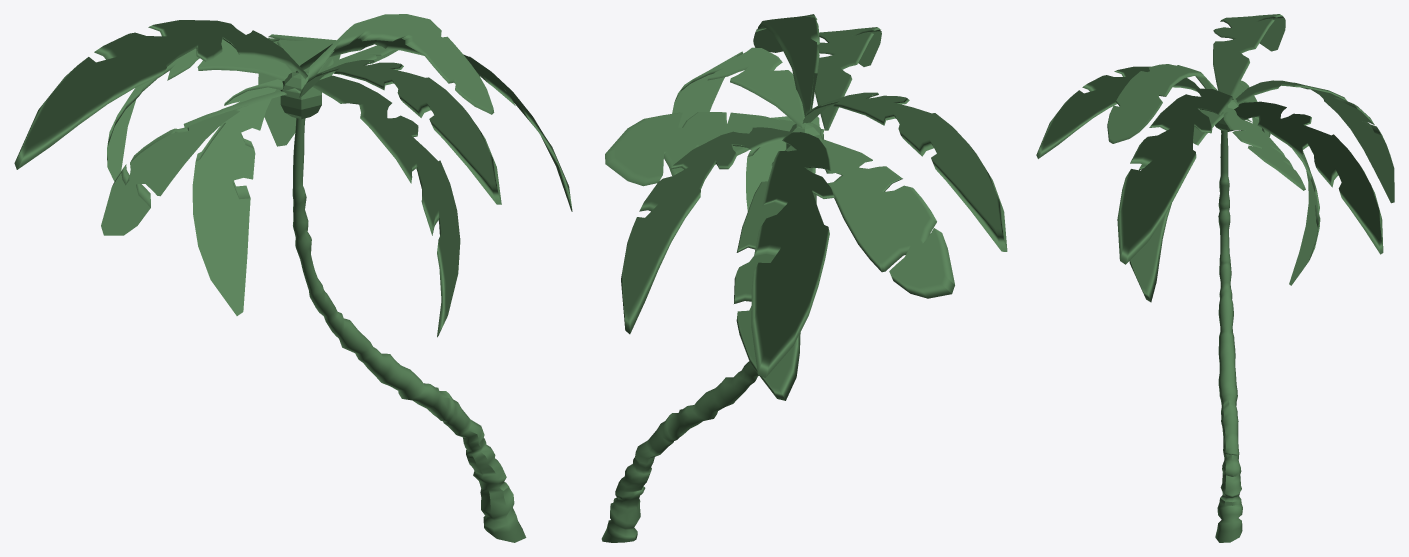
File: fol_palmtree_01.fbx
3 views of the same model, side by side, from view 1: azimuth 30°, elevation 25°; view 2: azimuth 150°, elevation 25°; view 3: azimuth 270°, elevation 25° (orthographic). The views are drawn at different scales.
Parts seen in each view (by area): view 1: Palm_tree_slim_bottom_keep; view 2: Palm_tree_slim_bottom_keep; view 3: Palm_tree_slim_bottom_keep.
Part boxes in pixels (<box>): Palm_tree_slim_bottom_keep: <box>14,14,572,542</box>; Palm_tree_slim_bottom_keep: <box>601,14,1007,542</box>; Palm_tree_slim_bottom_keep: <box>1036,14,1394,542</box>.
Bounding box in the file's own units: 21.31 × 24.79 × 19.4.
